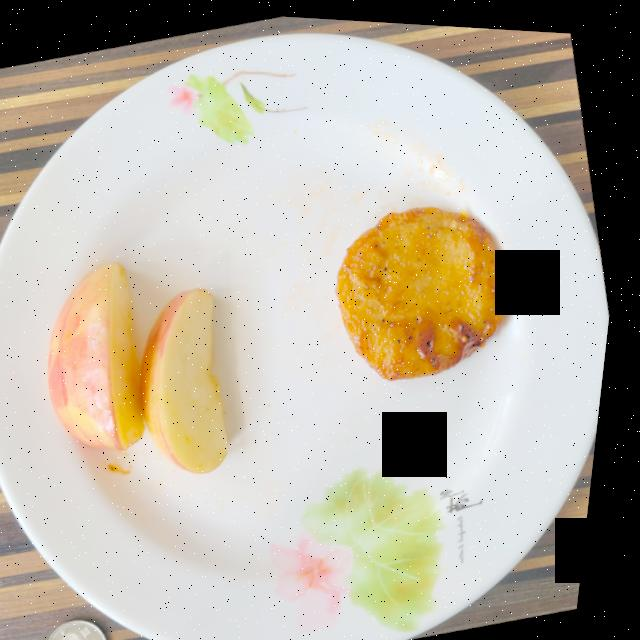apple -sliced-: (56, 260, 238, 470)
coin: (63, 618, 121, 640)
fish cake: (342, 200, 518, 375)
